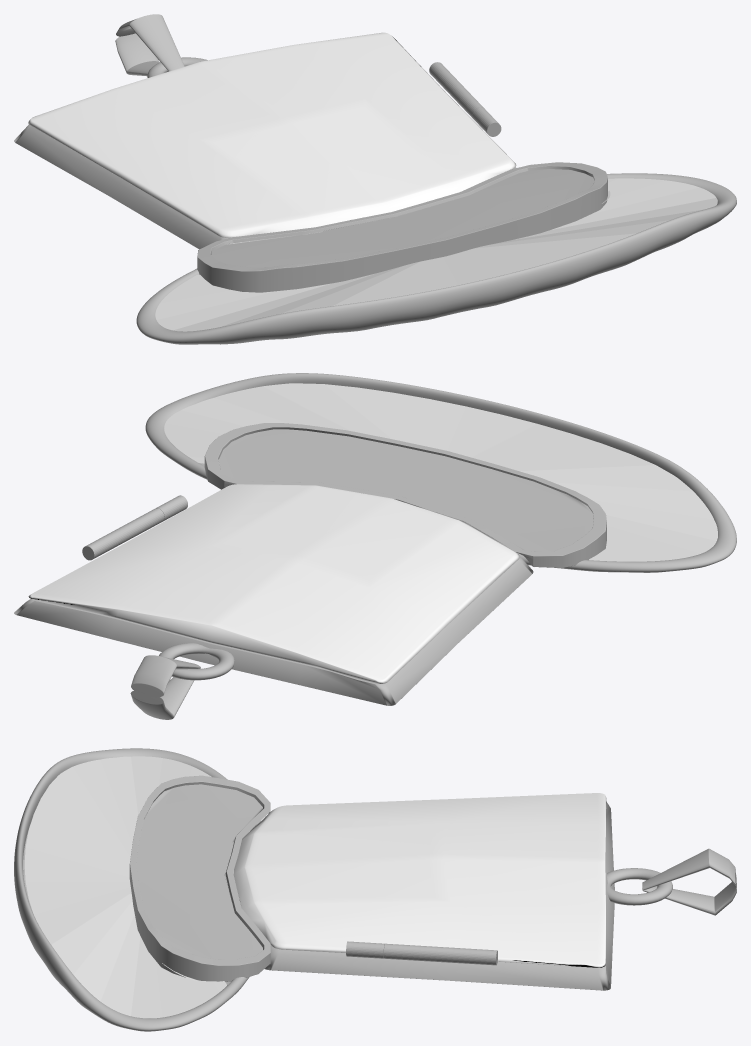
The model's file is dijeweb3.glb.
The picture shows the model from 3 angles, top to bottom: view 1: azimuth 30°, elevation 25°; view 2: azimuth 150°, elevation 25°; view 3: azimuth 270°, elevation 25°; orthographic projection. The views are drawn at different scales.
Visible parts, largest first — view 1: Cube.001, Cylinder, Cylinder.001, Cylinder.002, Cube, Cone; view 2: Cube.001, Cylinder.001, Cylinder, Cube, Cylinder.002, Cone, Torus, Cylinder.006; view 3: Cube.001, Cylinder.001, Cylinder, Cube, Cylinder.002, Cone, Torus, Cylinder.006, Cylinder.005, Cylinder.004, Cylinder.003.
Boxes of the visible parts, x1,y1,x2,y2 form: Cube.001: [28, 32, 516, 238]; Cylinder: [197, 162, 607, 292]; Cylinder.001: [155, 178, 717, 331]; Cylinder.002: [136, 173, 736, 344]; Cube: [14, 124, 515, 249]; Cone: [115, 14, 184, 76]; Cube.001: [28, 484, 519, 683]; Cylinder.001: [164, 383, 717, 561]; Cylinder: [204, 423, 606, 567]; Cube: [14, 557, 533, 705]; Cylinder.002: [145, 373, 736, 572]; Cone: [130, 655, 200, 719]; Torus: [159, 643, 234, 680]; Cylinder.006: [82, 533, 117, 560]; Cube.001: [233, 793, 606, 967]; Cylinder.001: [24, 756, 226, 1018]; Cylinder: [129, 775, 270, 981]; Cube: [265, 802, 614, 990]; Cylinder.002: [14, 748, 260, 1031]; Cone: [642, 848, 736, 915]; Torus: [607, 868, 672, 905]; Cylinder.006: [458, 948, 497, 965]; Cylinder.005: [346, 941, 384, 958]; Cylinder.004: [383, 943, 422, 960]; Cylinder.003: [421, 946, 459, 963].
Size of the model in its own units: 4.37 by 0.4305 by 4.77.
3 materials, 1 textured.
